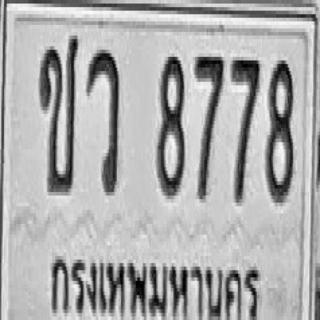A10: (38, 32, 79, 192)
A37: (86, 44, 120, 194)
N07: (231, 55, 260, 204), (194, 53, 223, 199)
N08: (265, 57, 293, 203), (156, 53, 184, 196)
P04: (46, 245, 263, 320)
